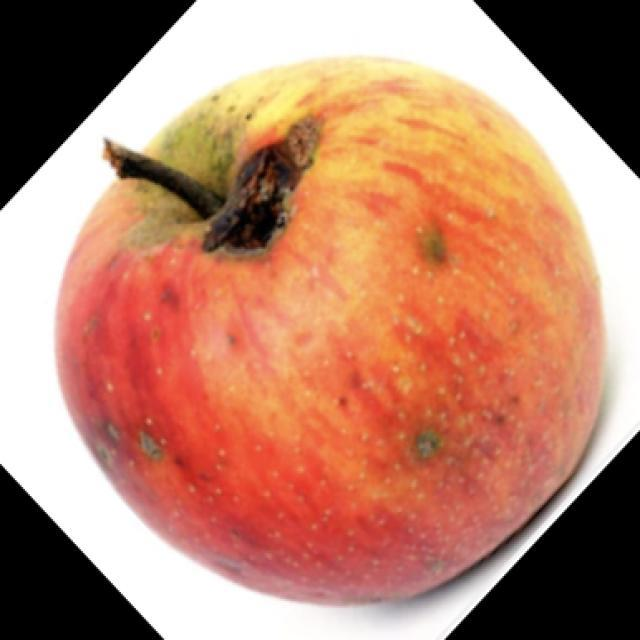Rotten: (35, 72, 612, 605)
